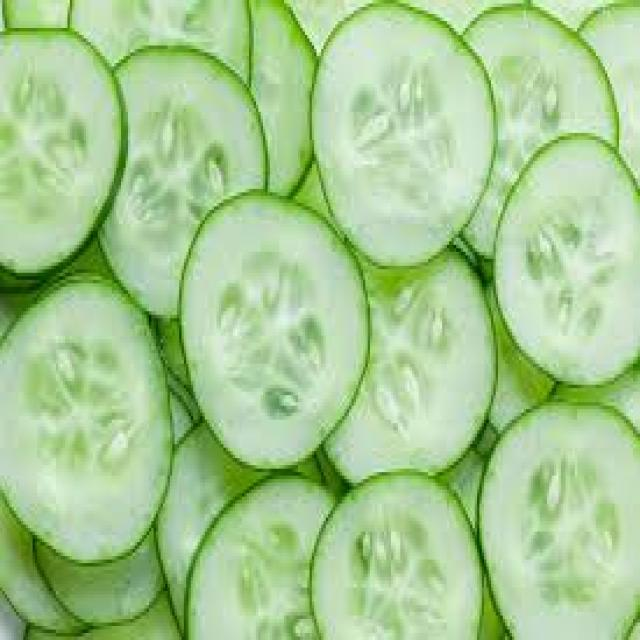Pickle: (181, 193, 367, 467), (0, 280, 173, 561), (314, 4, 495, 265), (100, 47, 266, 317), (325, 255, 496, 482), (479, 402, 640, 639), (464, 9, 617, 256), (495, 137, 637, 382), (0, 30, 121, 273), (311, 473, 479, 639), (189, 475, 334, 639), (156, 423, 269, 628), (251, 0, 316, 194)
